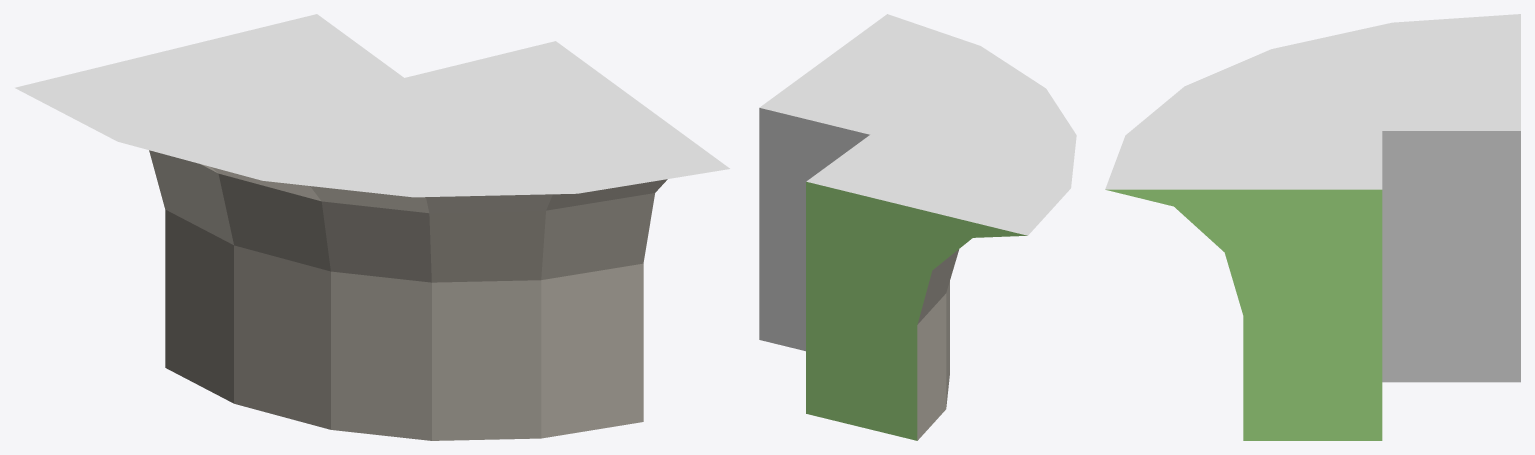
The model's file is Wall_Curve_Outer_3x3_Top.glb.
3 views of the same model, side by side, from view 1: azimuth 30°, elevation 25°; view 2: azimuth 150°, elevation 25°; view 3: azimuth 270°, elevation 25° (orthographic). The views are drawn at different scales.
Parts seen in each view (by area): view 1: Wall_Curve_Outer_3x3_Top; view 2: Wall_Curve_Outer_3x3_Top; view 3: Wall_Curve_Outer_3x3_Top.
Part boxes in pixels (<box>): Wall_Curve_Outer_3x3_Top: <box>15,14,729,440</box>; Wall_Curve_Outer_3x3_Top: <box>759,14,1076,440</box>; Wall_Curve_Outer_3x3_Top: <box>1105,14,1520,440</box>.
Size of the model in its own units: 300 by 200 by 300.
